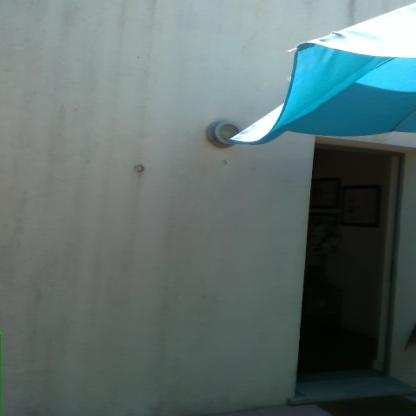open: (281, 129, 415, 412)
